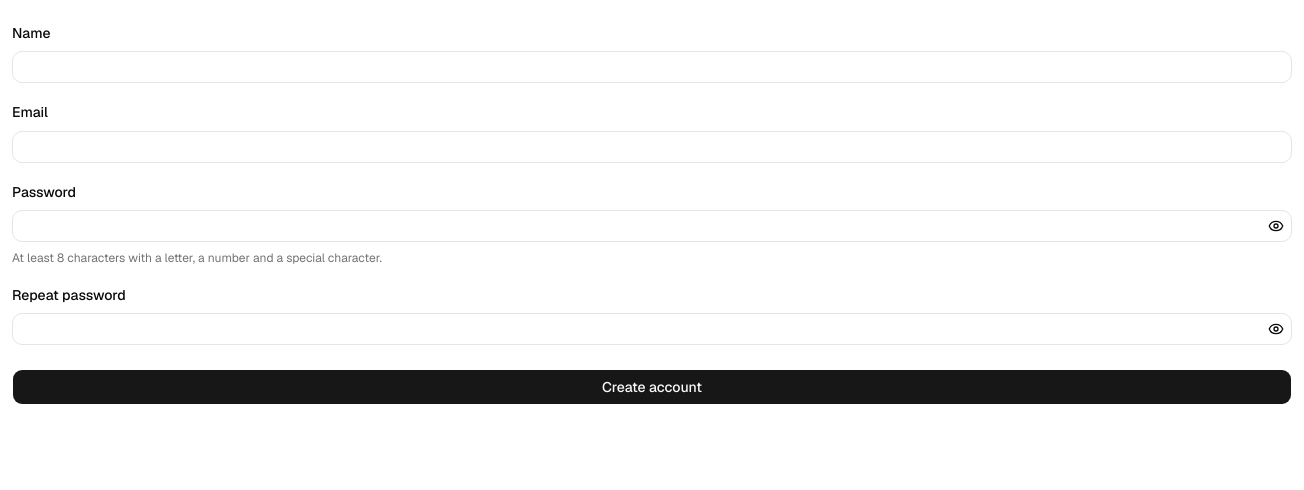
Test case: SignupForm › keeps the typed values after a 409 and marks the email field
This screenshot has width=1304, height=490.
Step 1. Type "  Mostafa Elzohry " into the field labelled "Name" → [652, 67], box [12,51,1292,83]
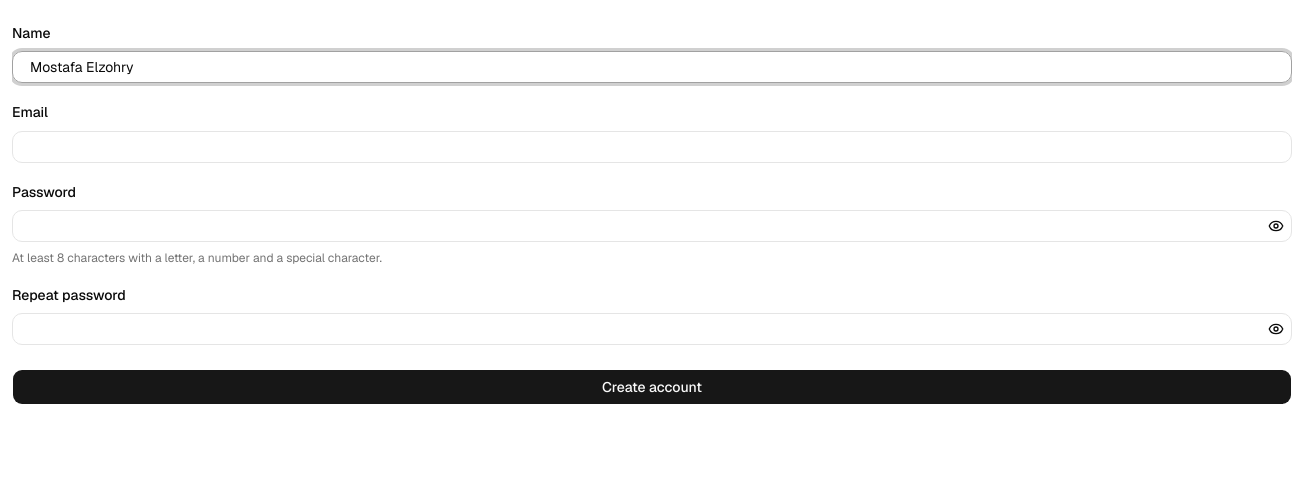
Step 2. Type " Mostafa@Example.com " into the field labelled "Email" → [652, 146], box [12,130,1292,162]
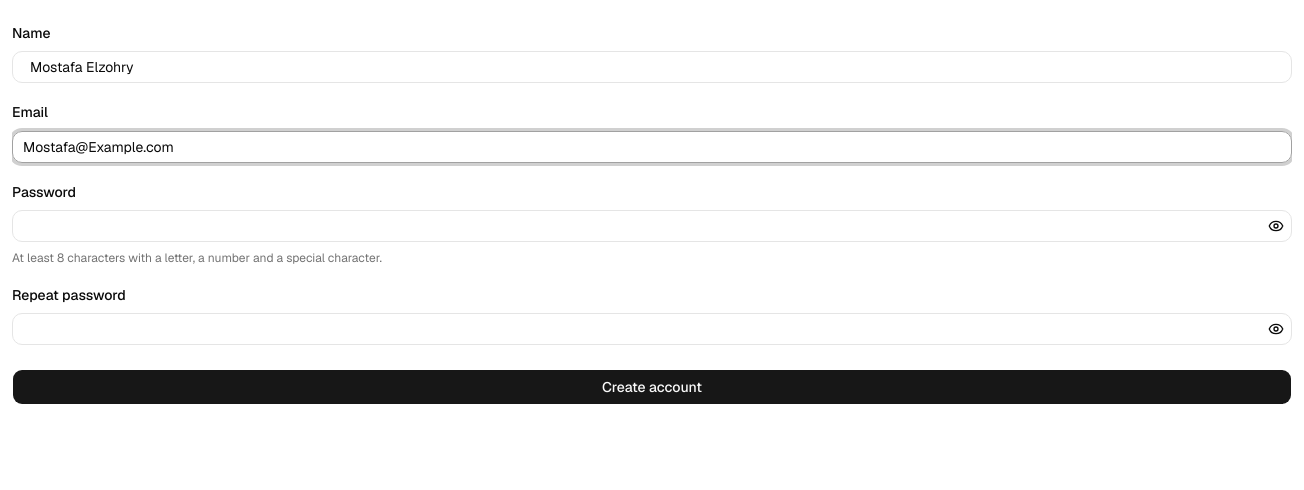
Step 3. Type " Sup3r-secret! " into the password field labelled "Password" → [652, 226], box [12,210,1292,242]
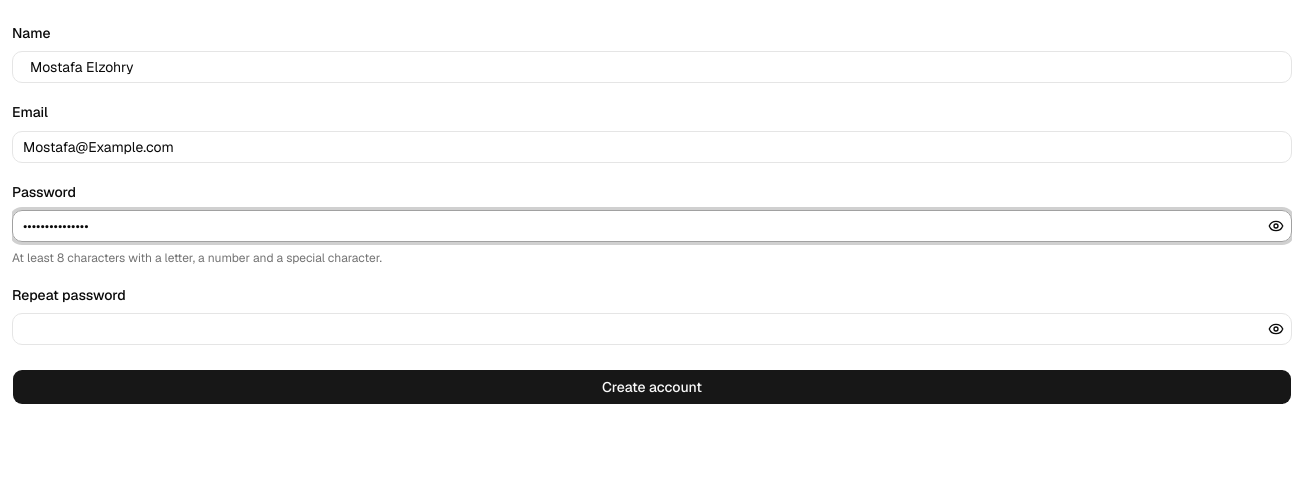
Step 4. Type " Sup3r-secret! " into the password field labelled "Repeat password" → [652, 329], box [12,313,1292,345]
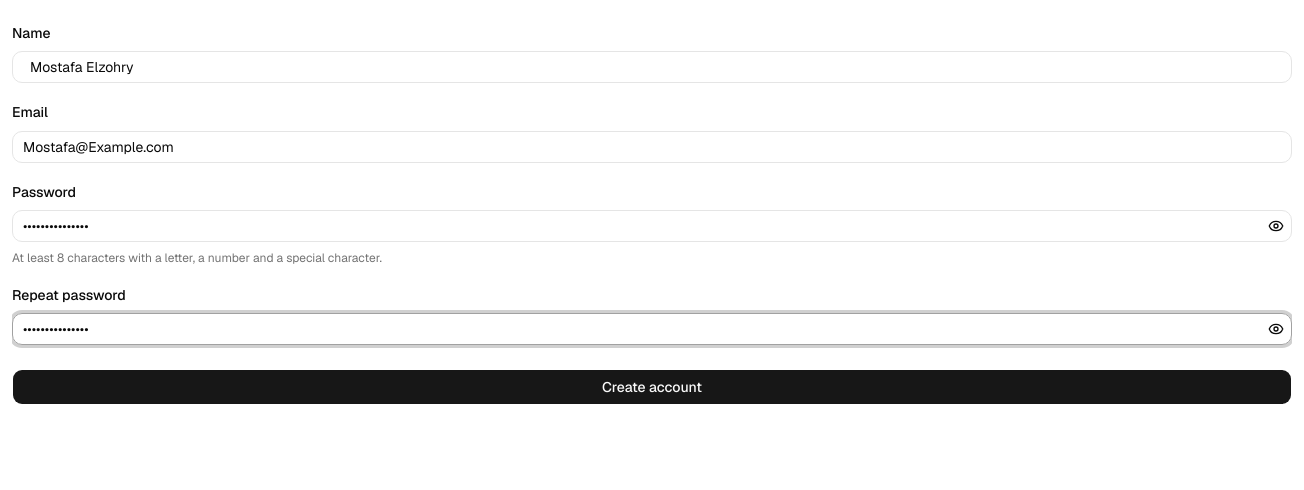
Step 5. Click the button "Create account" → [652, 387], box [12,369,1292,405]
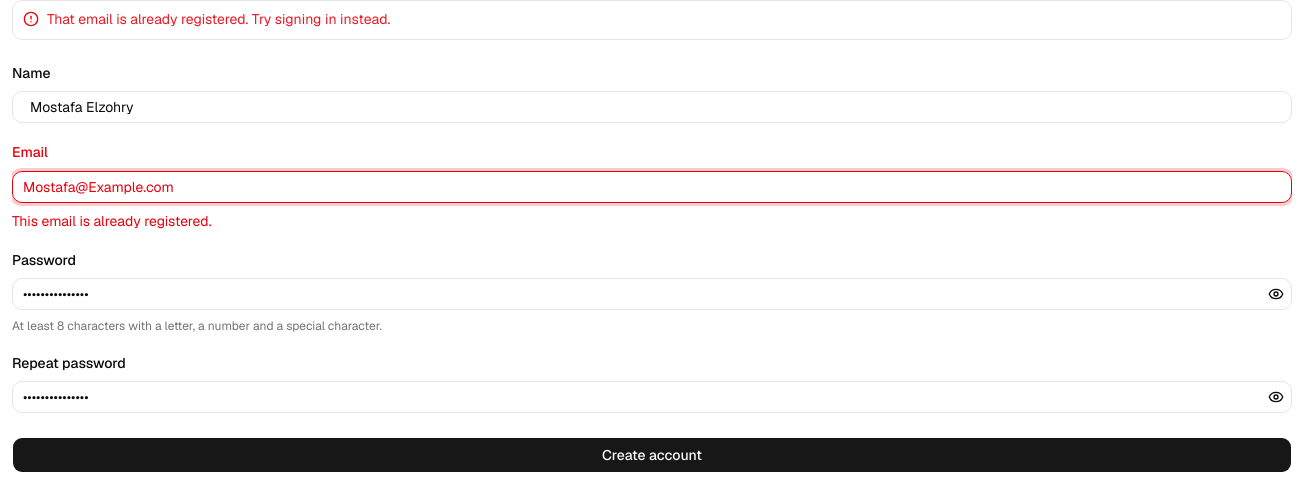
expect the button "Create account" is enabled: met, box [12,437,1292,473]
expect the text "That email is already registered. Try signing in instead." is shown: met, box [47,10,390,28]
